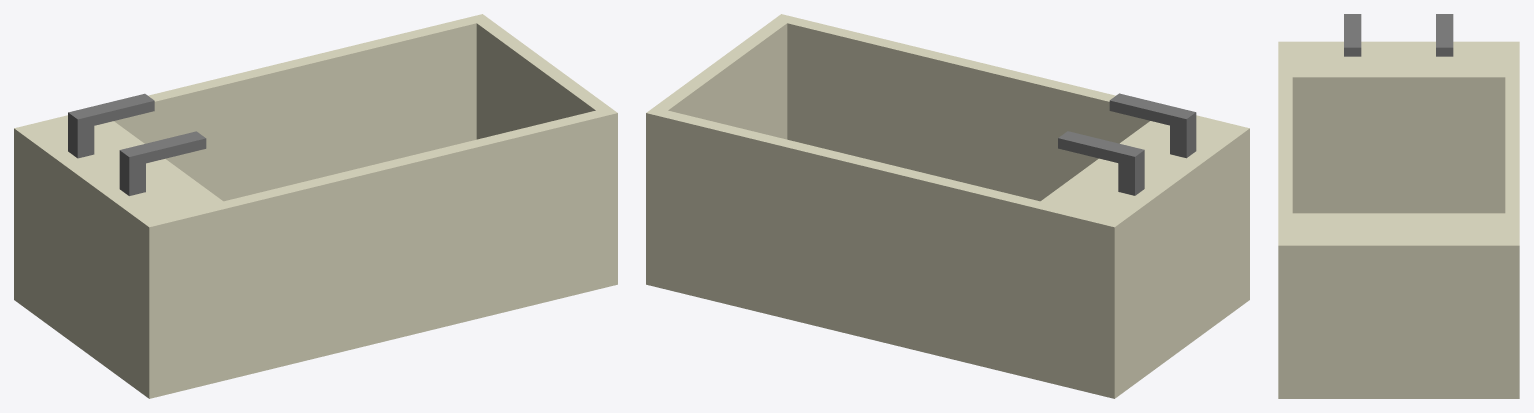
Rendered from Tina.fbx.
3 views of the same model, side by side, from view 1: azimuth 30°, elevation 25°; view 2: azimuth 150°, elevation 25°; view 3: azimuth 270°, elevation 25° (orthographic). The views are drawn at different scales.
Parts seen in each view (by area): view 1: Cube; view 2: Cube; view 3: Cube.
Boxes of the visible parts, box(x1,y1,x2,y2) form: Cube: box(14, 14, 617, 398); Cube: box(646, 14, 1249, 398); Cube: box(1278, 14, 1519, 398).
Bounding box in the file's own units: 400 × 172 × 200.
